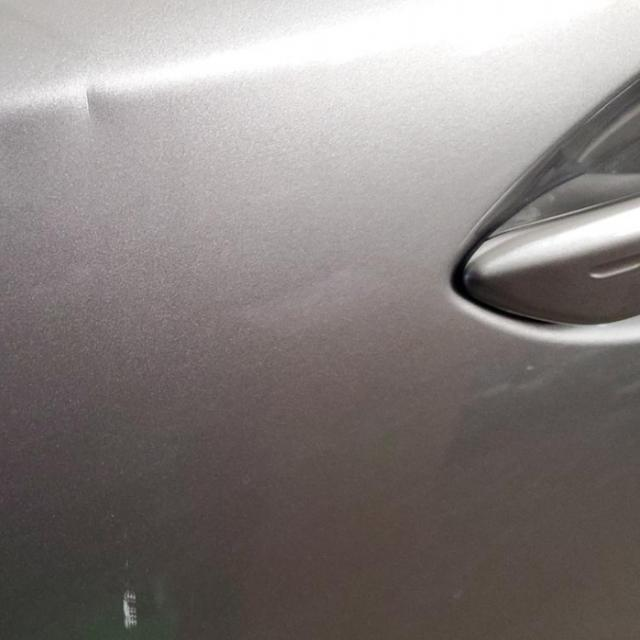dents: (63, 86, 122, 150)
